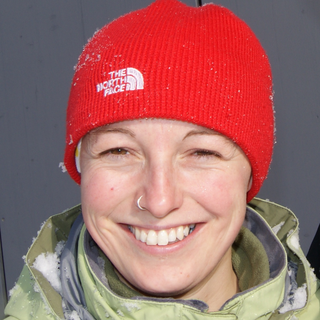eye: (180, 144, 224, 164), (94, 142, 136, 162)
